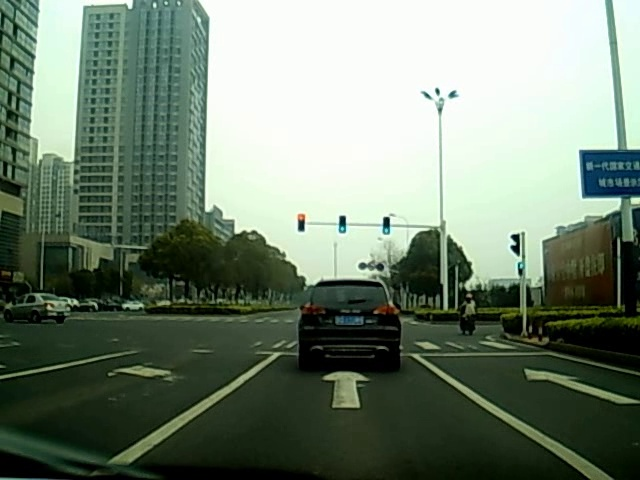Traffic_Light_go: (381, 219, 391, 238), (337, 216, 346, 234)
Traffic_Light_stop: (296, 214, 305, 232)
